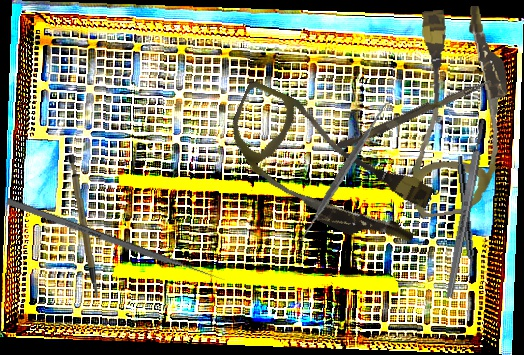Cannula: (209, 79, 445, 259), (395, 3, 520, 219)
Handpiece: (453, 155, 478, 278)
Pusher: (5, 197, 227, 285), (336, 73, 492, 154)
Scalpel Handle: (443, 118, 489, 299), (65, 153, 100, 301)
Spatula Surgical: (277, 100, 411, 243)
